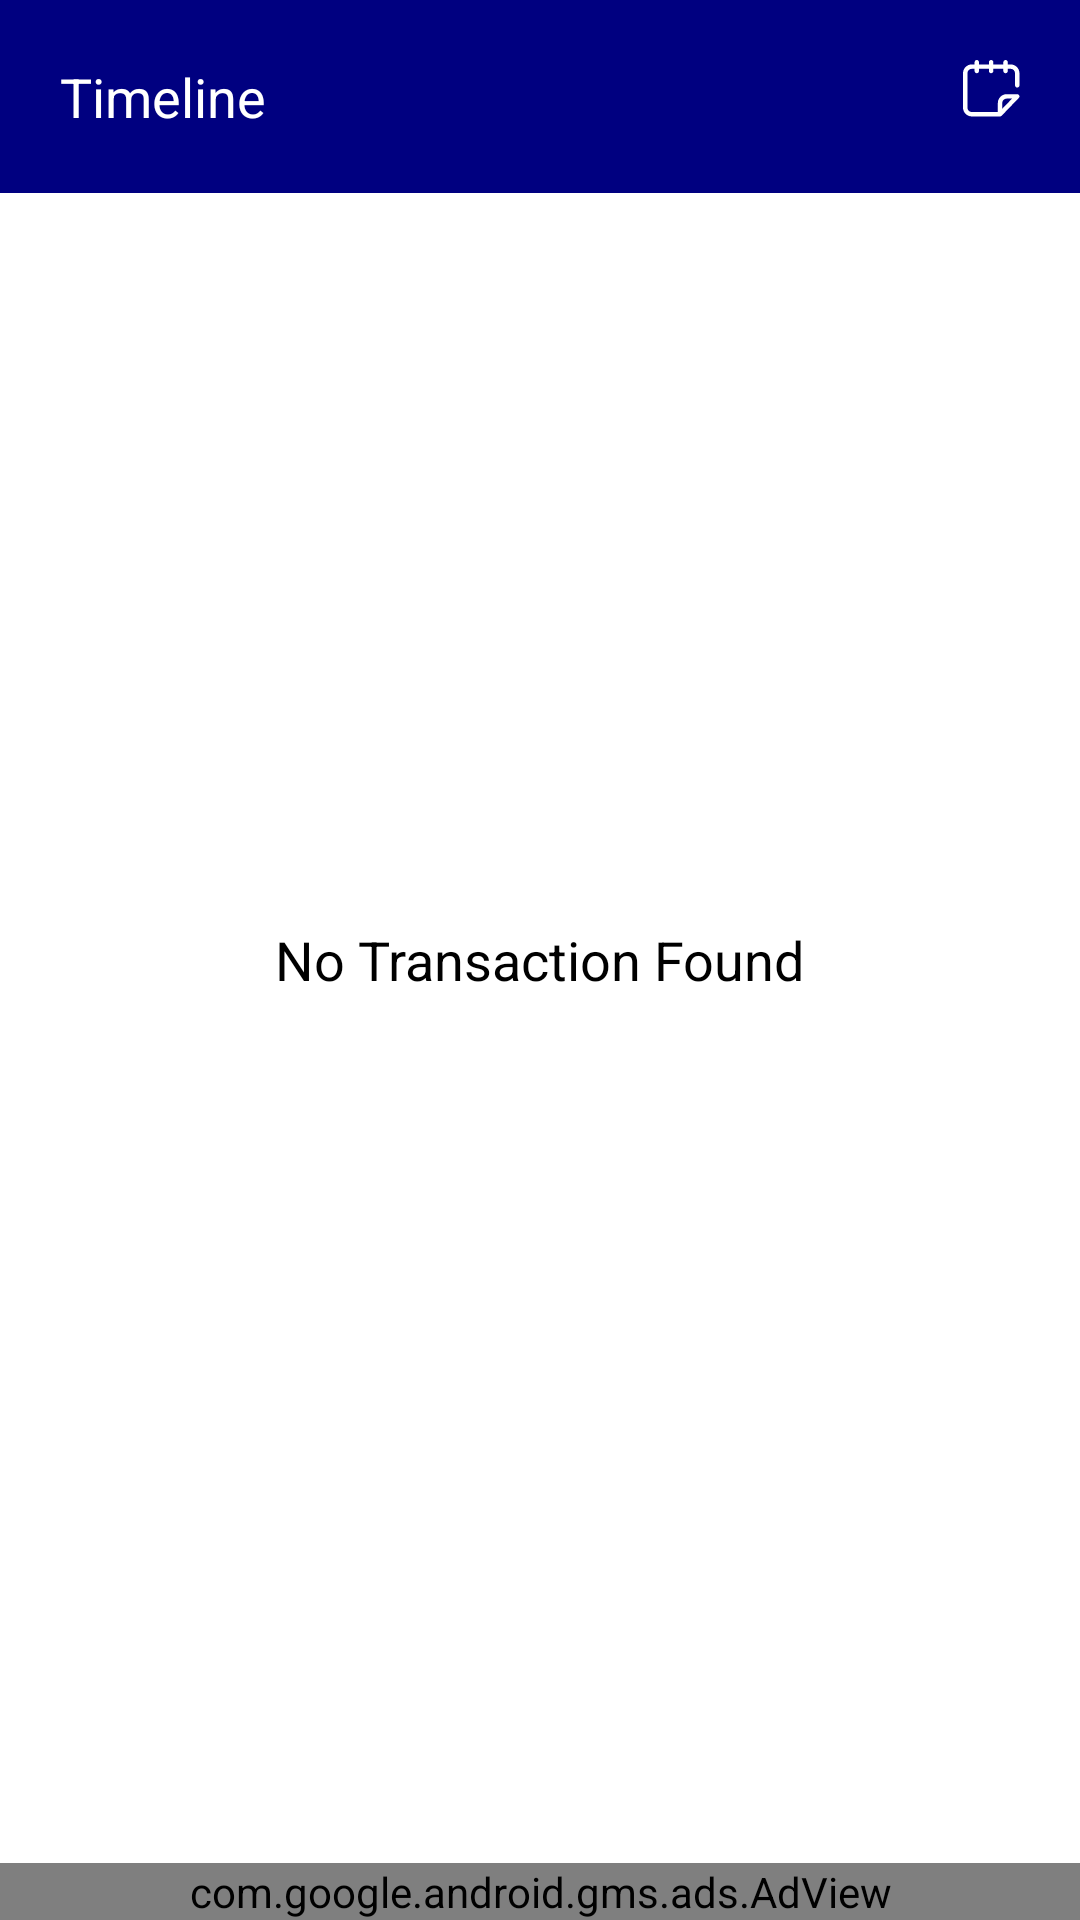

Point at icon controls on the screen. Image size 1080w x 1920h, points as (x=x, y=y).
calendar top: (x=991, y=88)
